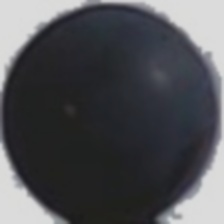grapes: (14, 51, 189, 213)
